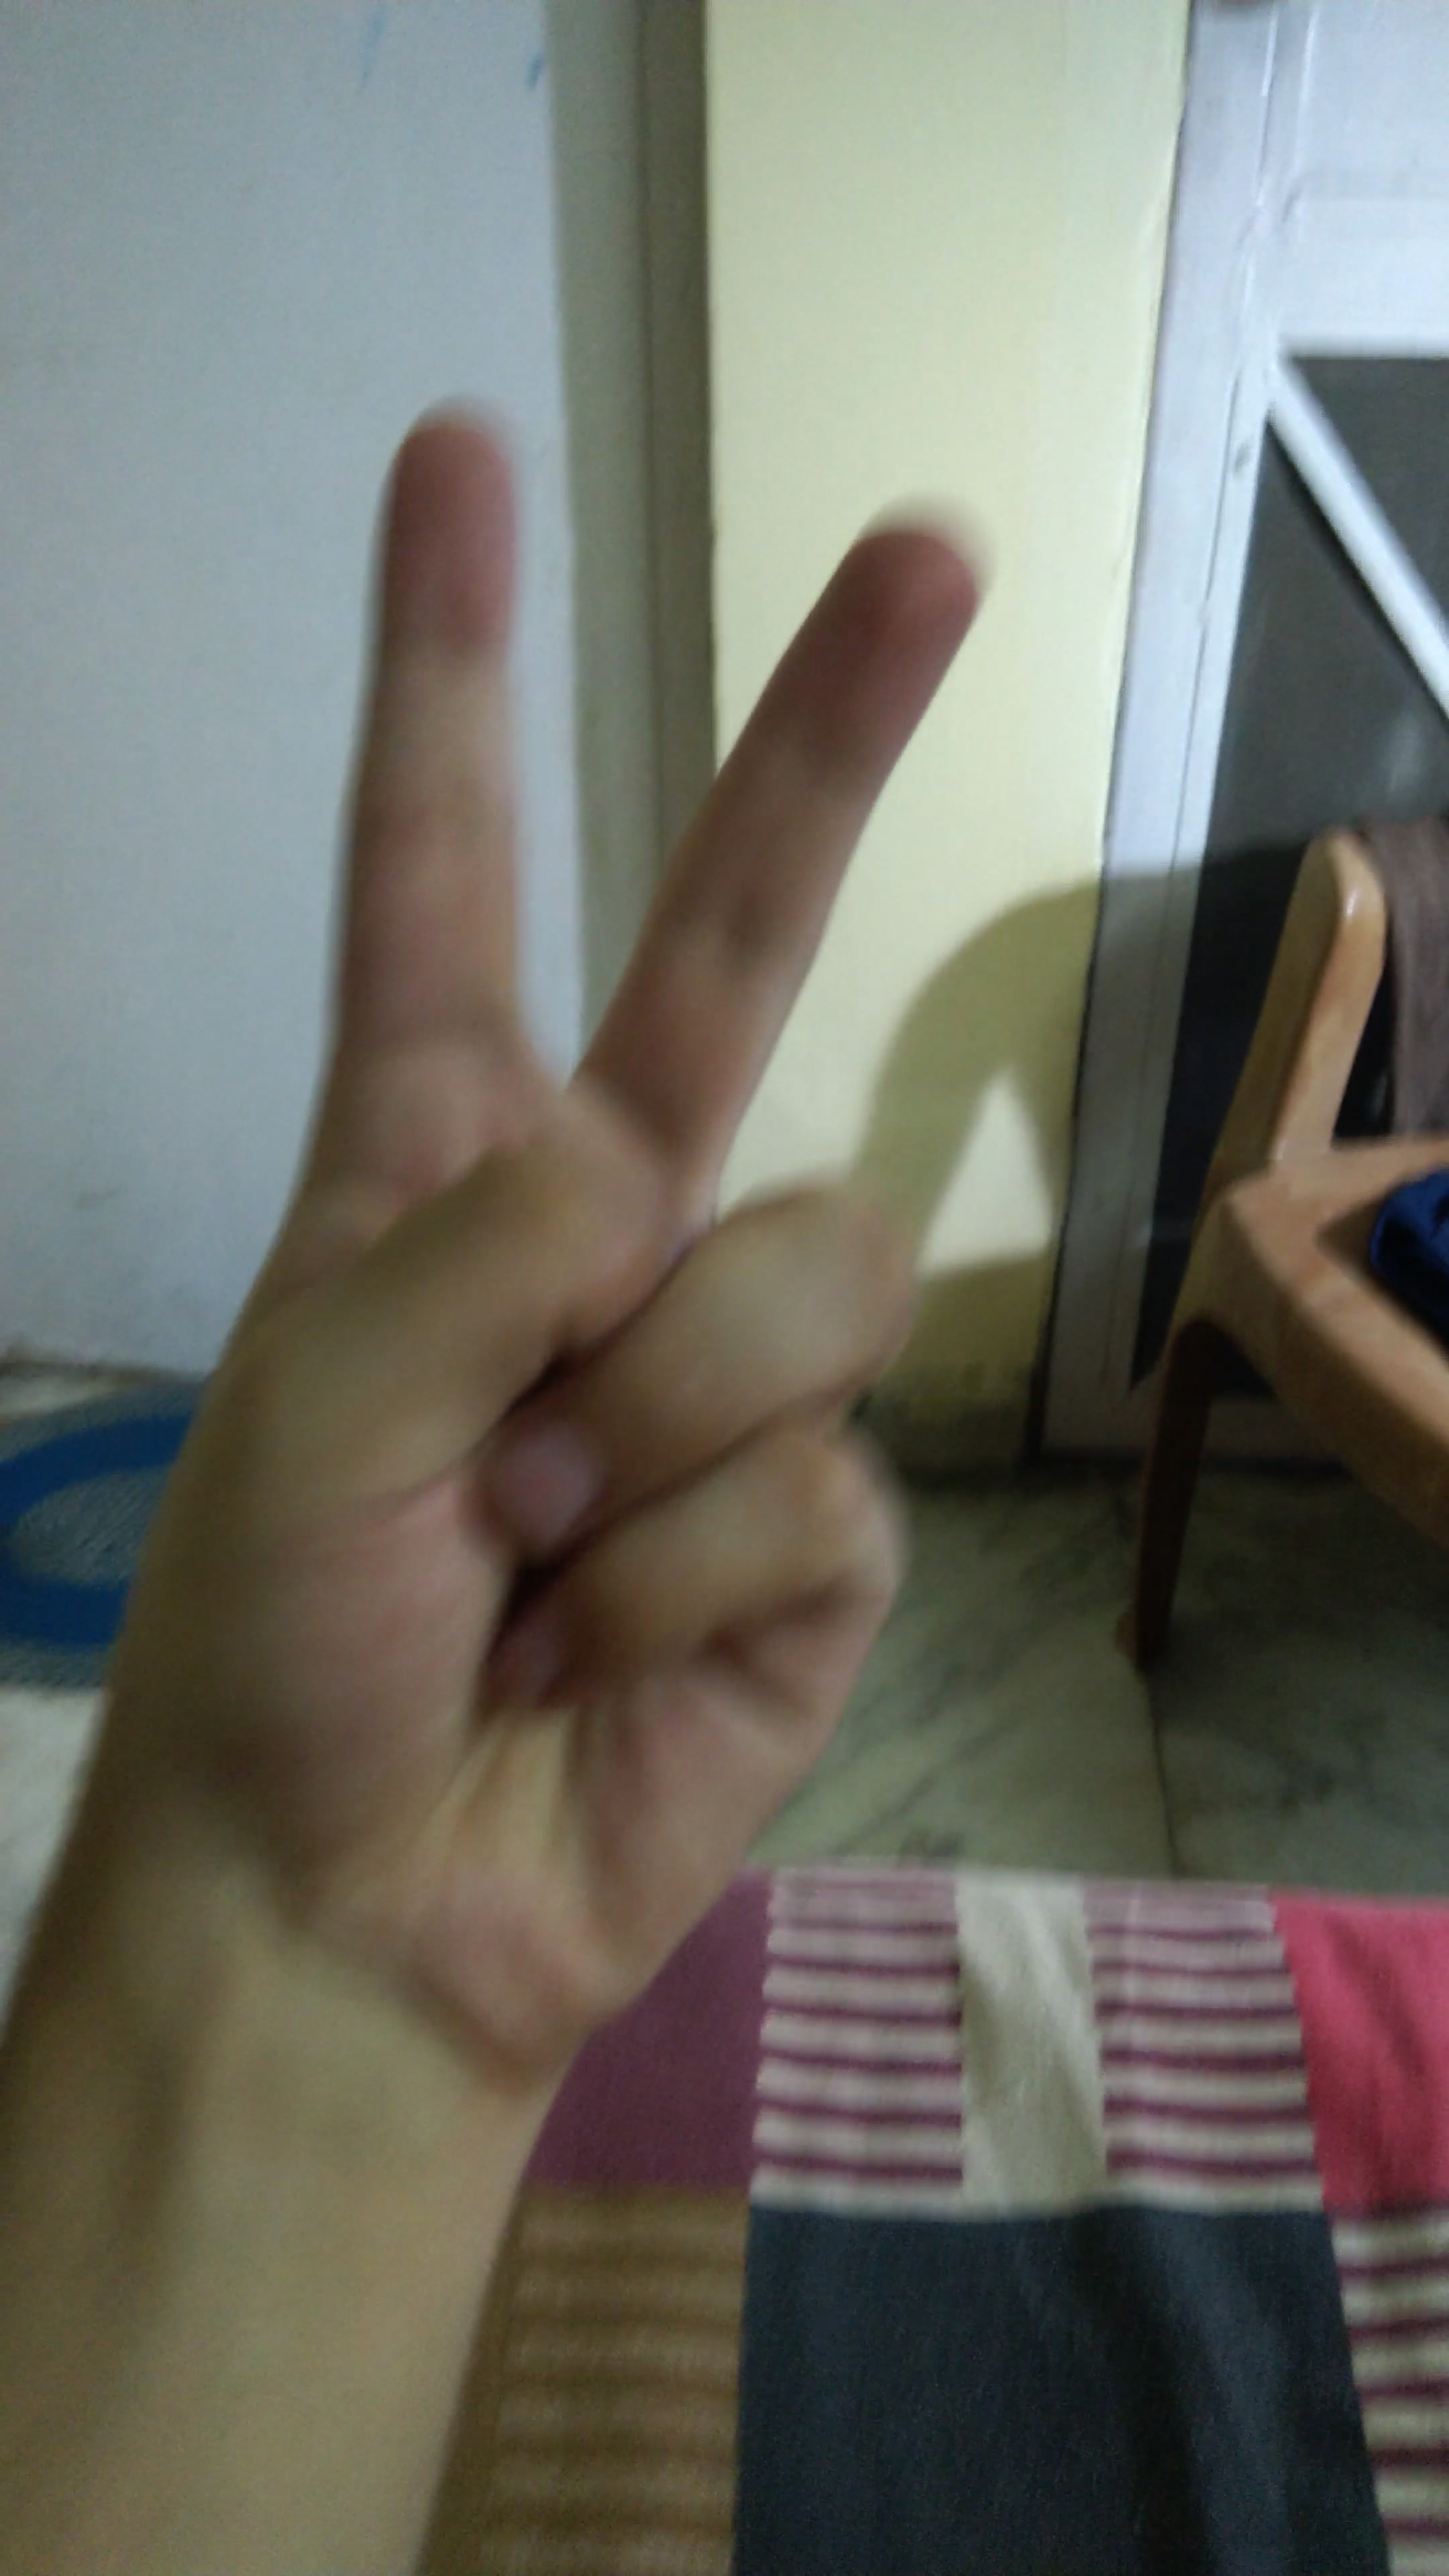hand: (99, 349, 1016, 2074)
